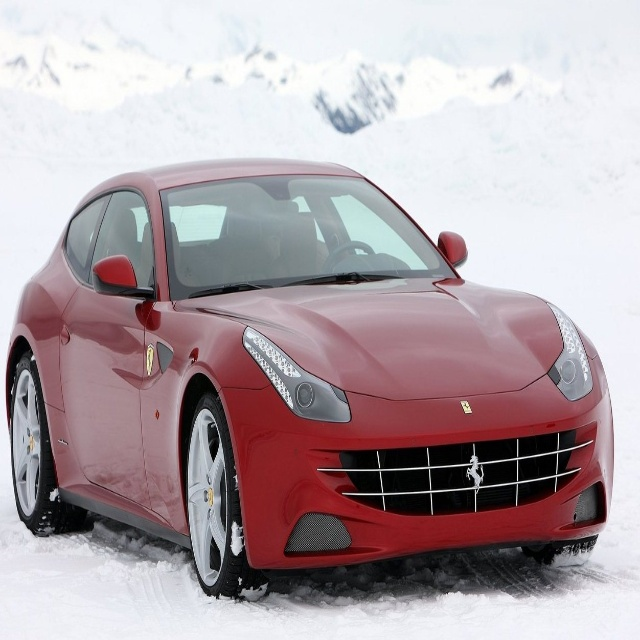Car: (6, 157, 613, 599)
